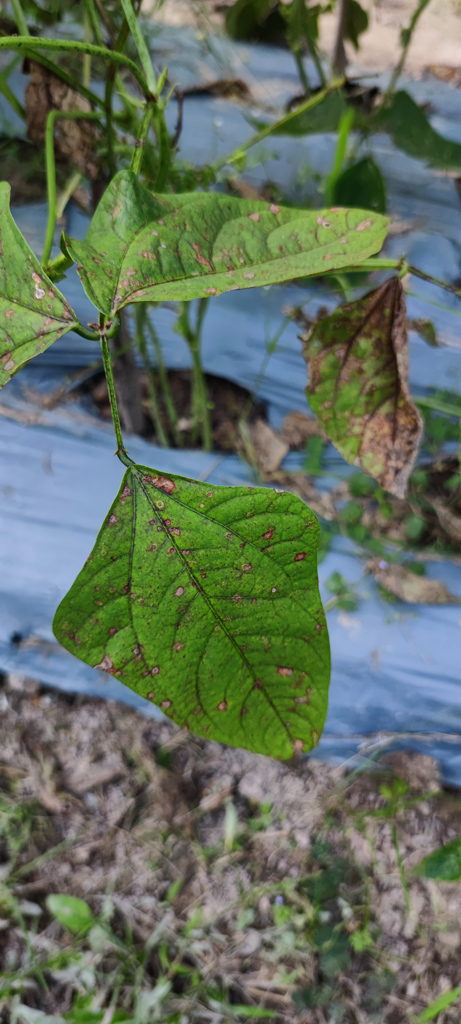Rust: (47, 466, 355, 785), (83, 167, 407, 307), (316, 272, 428, 506), (5, 190, 80, 400)
